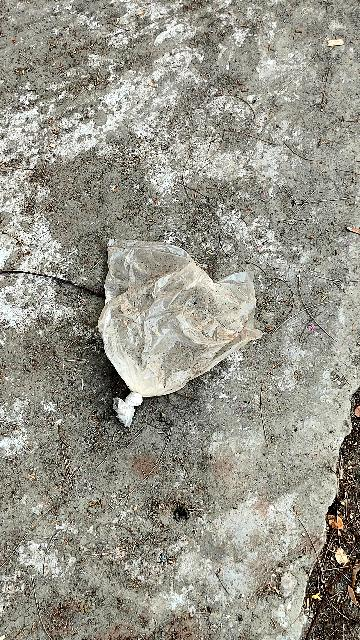polythene: (102, 231, 258, 418)
